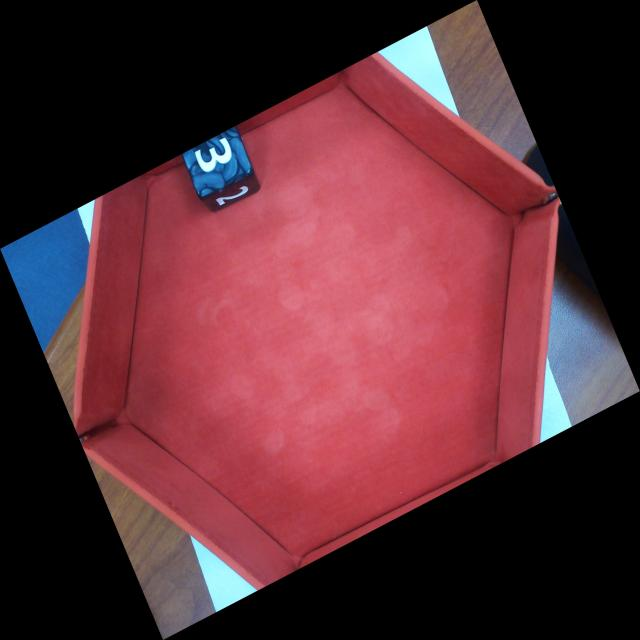dice: (180, 124, 257, 199)
